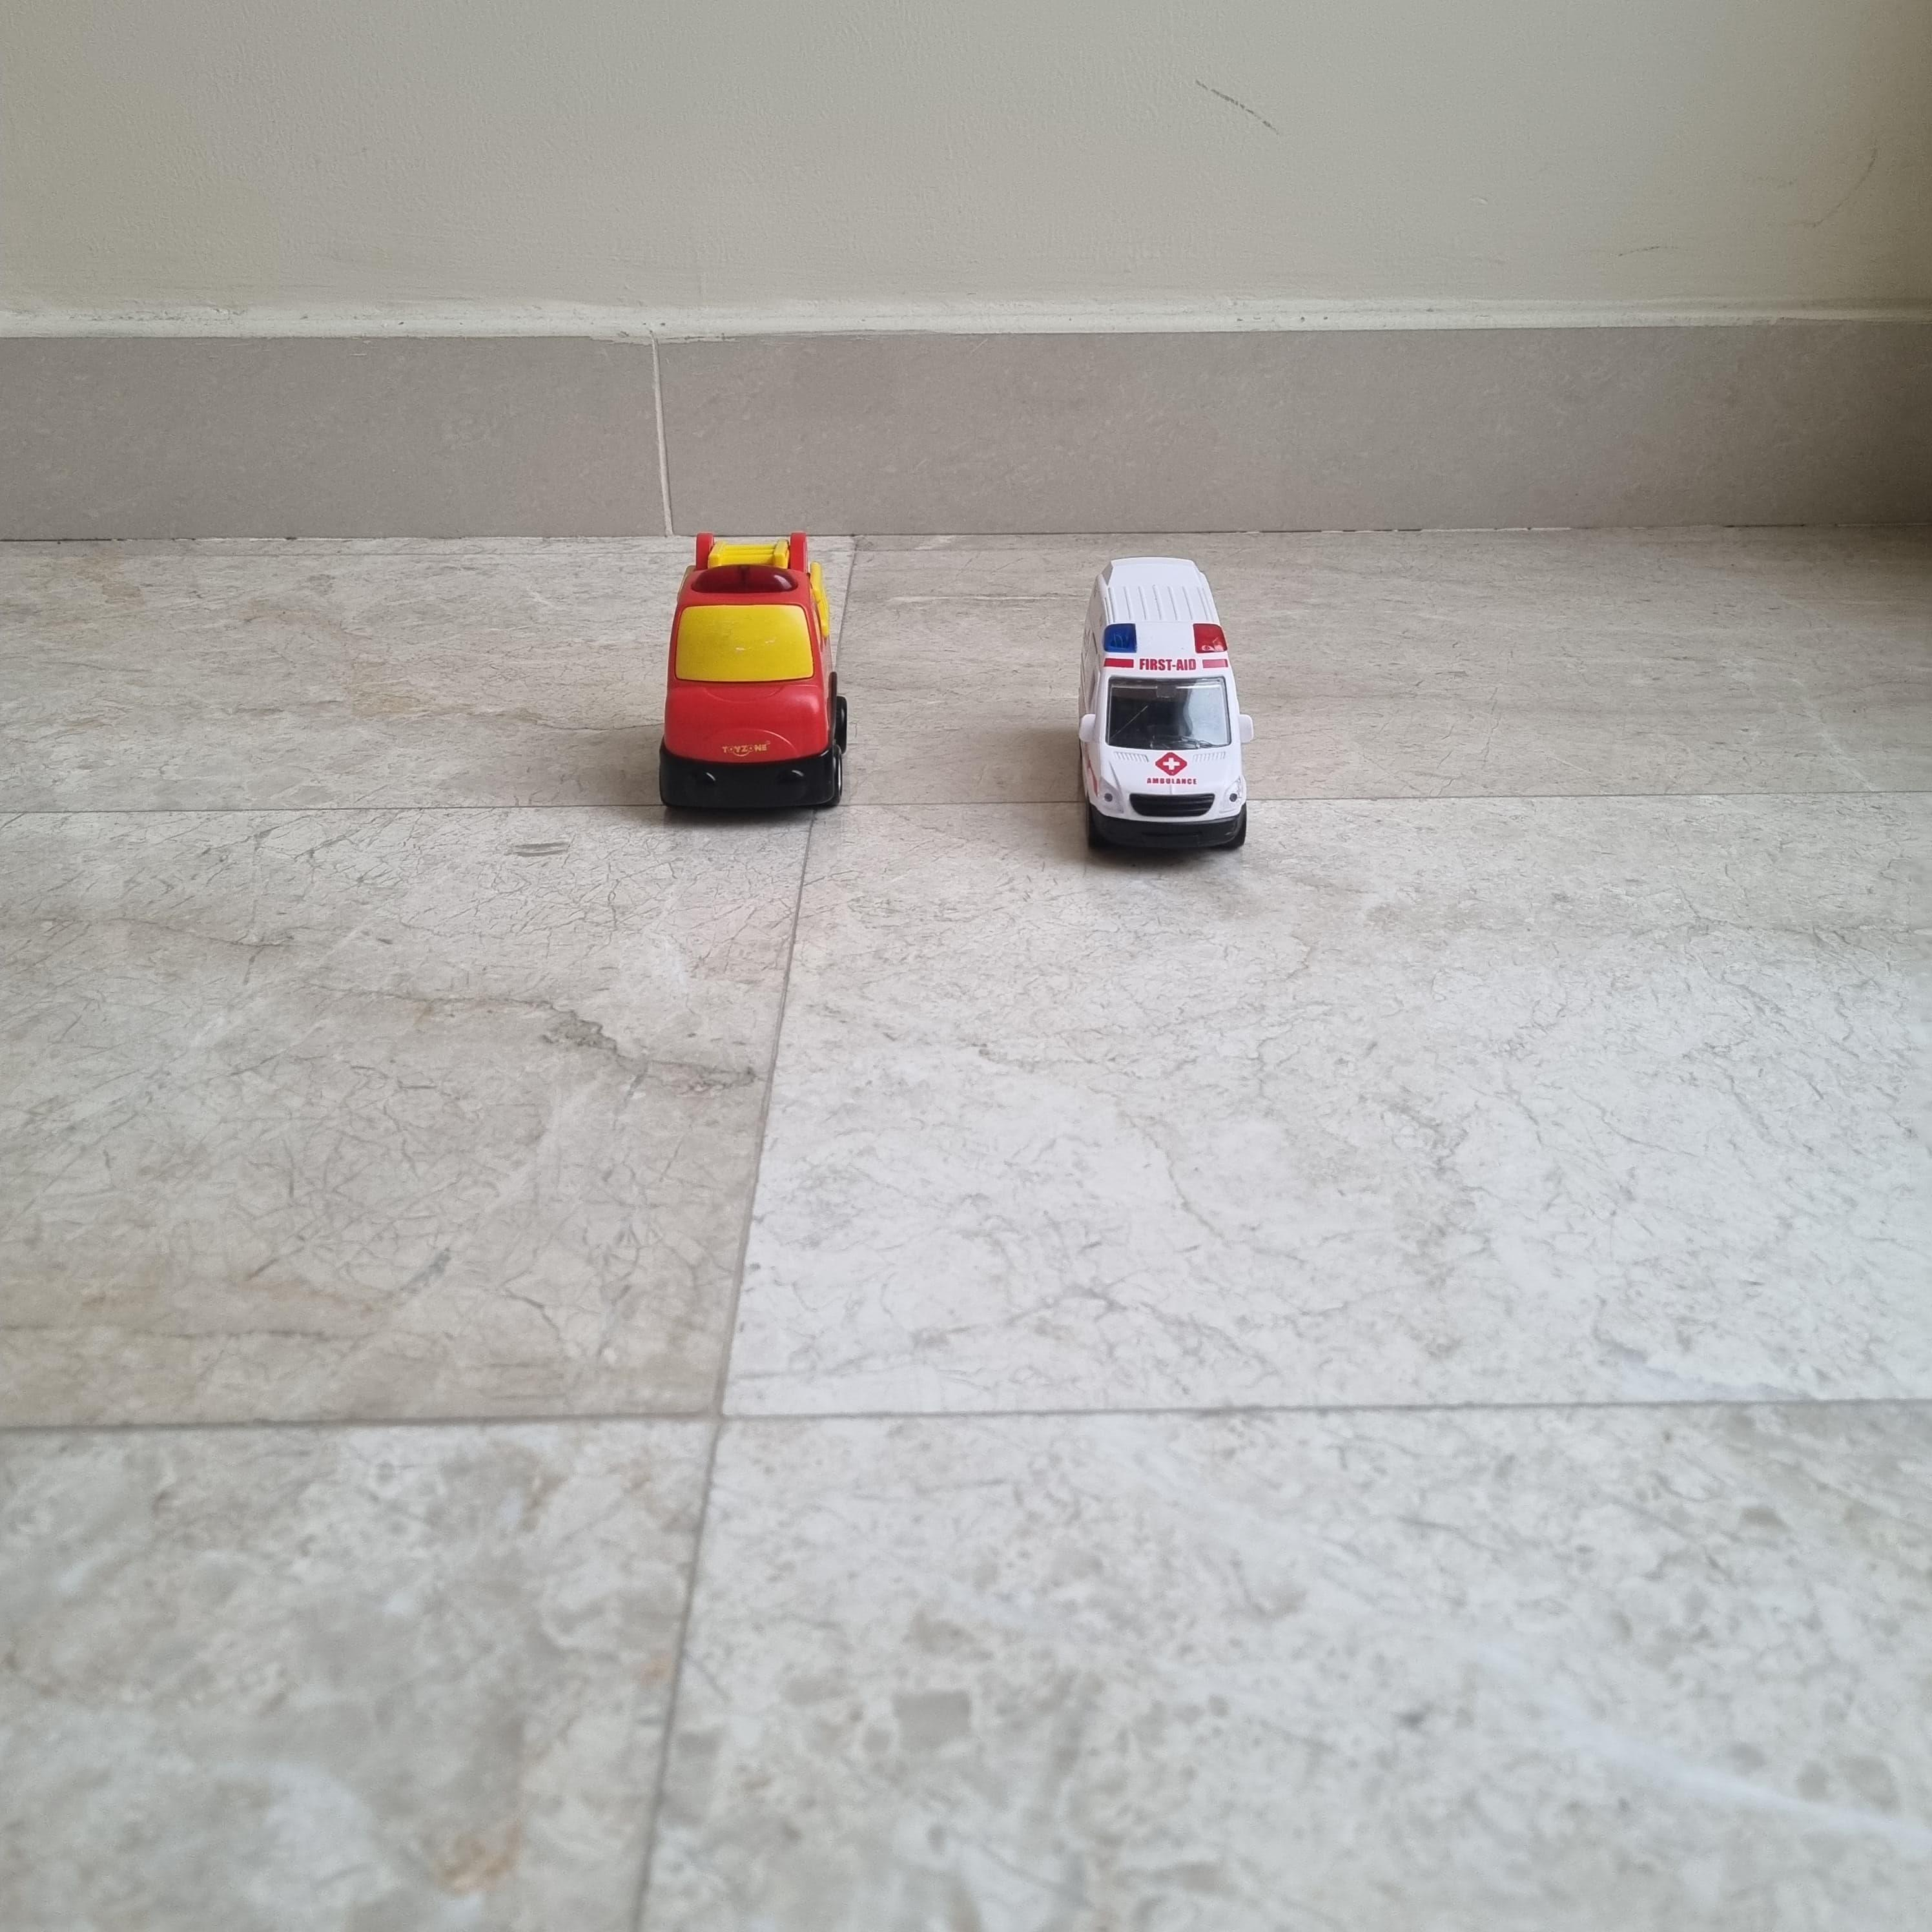ambulance_off: (1077, 561, 1254, 858)
firetruck_off: (658, 533, 846, 816)
